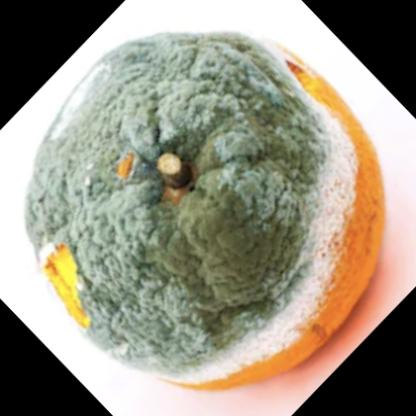rotten: (27, 30, 387, 390)
